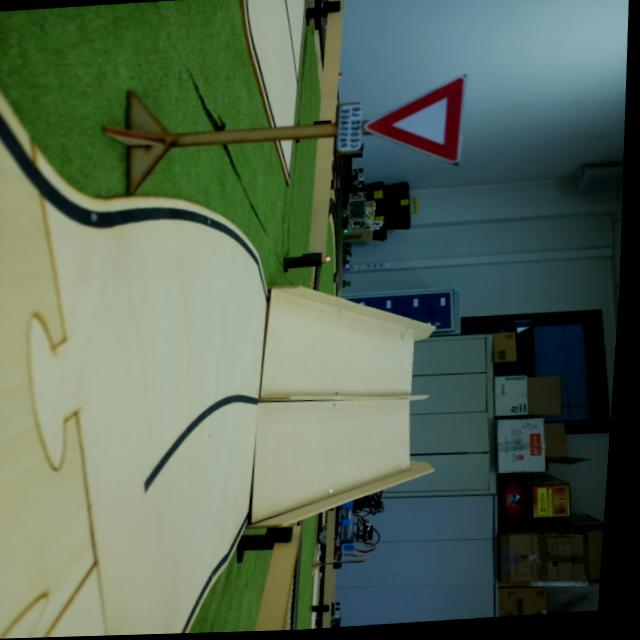panneau_ceder_passage: (306, 65, 479, 180)
pont: (235, 269, 463, 522)
